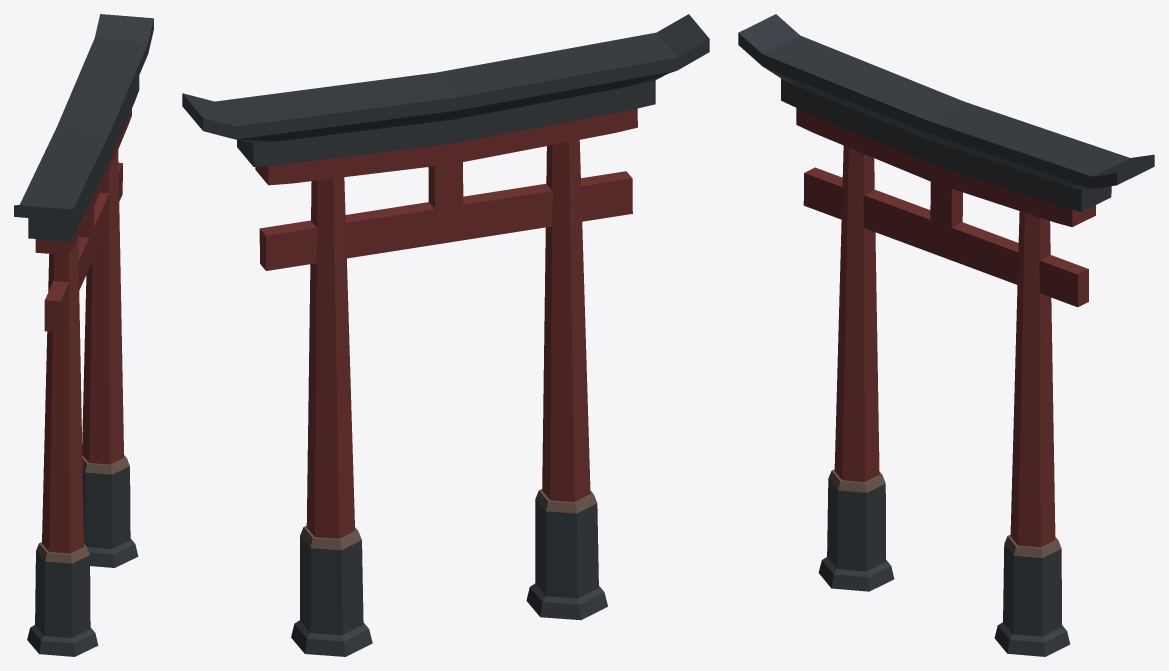
The model's file is open.glb.
3 renders of one model, left to right at view 1: azimuth 30°, elevation 25°; view 2: azimuth 150°, elevation 25°; view 3: azimuth 270°, elevation 25°, orthographic. The views are drawn at different scales.
Parts seen in each view (by area): view 1: Cylinder; view 2: Cylinder; view 3: Cylinder.
Part boxes in pixels (<box>): Cylinder: <box>14,14,153,656</box>; Cylinder: <box>182,14,709,656</box>; Cylinder: <box>738,14,1154,656</box>.
Bounding box in the file's own units: 5.1 × 7.93 × 5.76.
